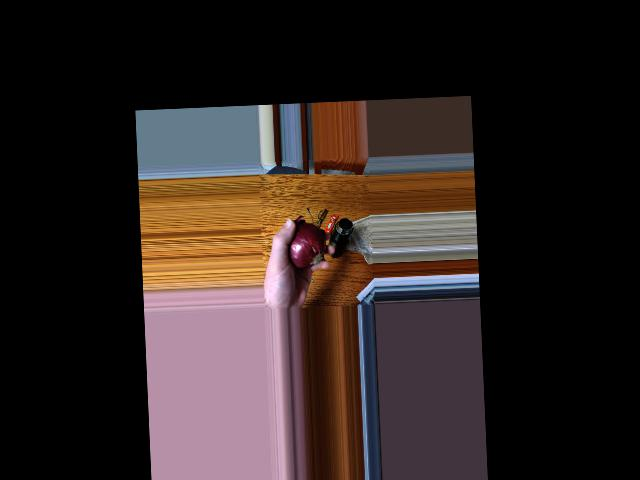onion: (281, 226, 321, 267)
